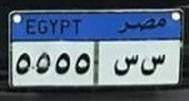5: (54, 53, 73, 75), (76, 52, 93, 75), (16, 54, 33, 75), (36, 52, 50, 75)
seen: (141, 53, 167, 77), (112, 53, 138, 77)
